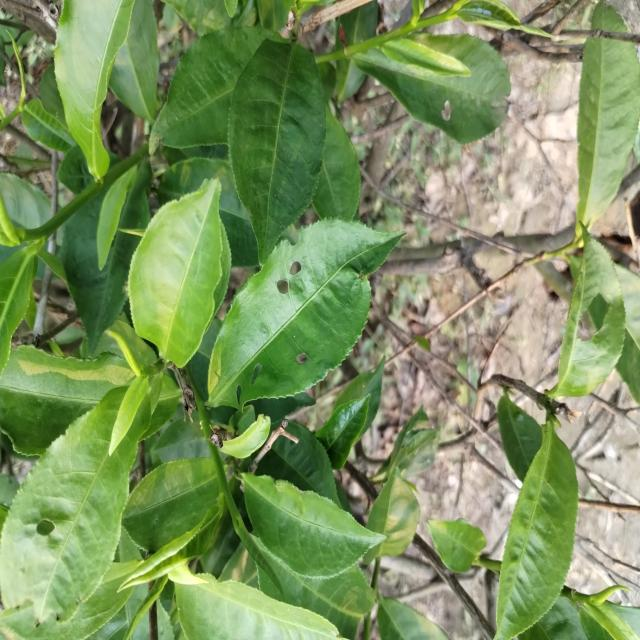Leaf: (207, 219, 402, 407), (0, 388, 143, 622), (228, 39, 325, 264), (128, 179, 228, 367), (495, 417, 578, 640), (353, 34, 510, 143), (150, 27, 269, 152), (0, 346, 135, 455), (242, 473, 383, 577), (55, 0, 134, 179), (549, 223, 625, 397), (61, 194, 140, 355), (577, 39, 640, 227), (0, 560, 137, 640), (175, 574, 338, 640), (158, 158, 257, 266), (122, 457, 219, 551), (256, 422, 340, 506), (110, 0, 159, 122), (312, 105, 360, 221), (363, 468, 419, 563), (0, 245, 38, 372), (96, 166, 137, 270), (334, 357, 385, 436), (316, 395, 370, 469), (497, 393, 542, 481), (447, 0, 551, 37), (614, 264, 640, 405), (382, 35, 470, 76), (427, 519, 486, 573), (377, 596, 448, 640), (109, 376, 148, 455), (518, 597, 587, 640), (21, 99, 75, 153), (0, 172, 50, 228), (396, 425, 439, 479), (222, 414, 270, 458), (146, 375, 180, 436), (121, 159, 151, 228), (58, 145, 94, 194), (339, 0, 378, 45), (335, 58, 365, 101), (592, 1, 626, 31), (588, 299, 607, 329), (569, 257, 581, 281)
